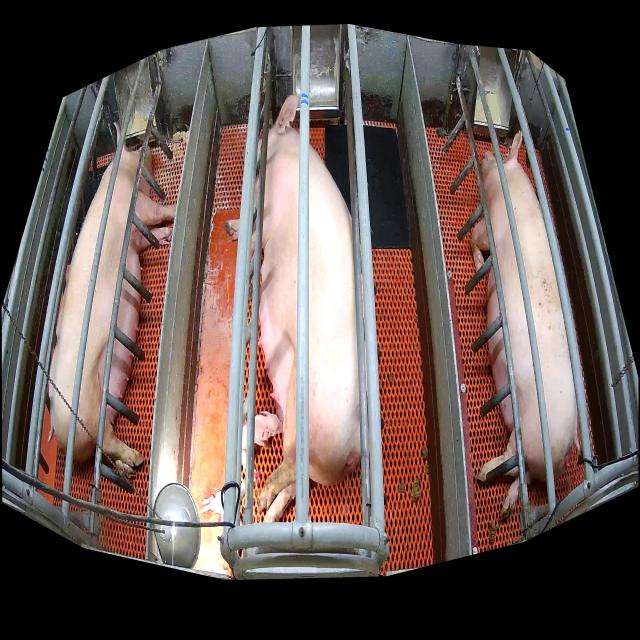pig: (227, 95, 362, 522), (48, 123, 176, 479), (471, 133, 580, 519), (242, 411, 281, 471), (200, 486, 224, 515)
